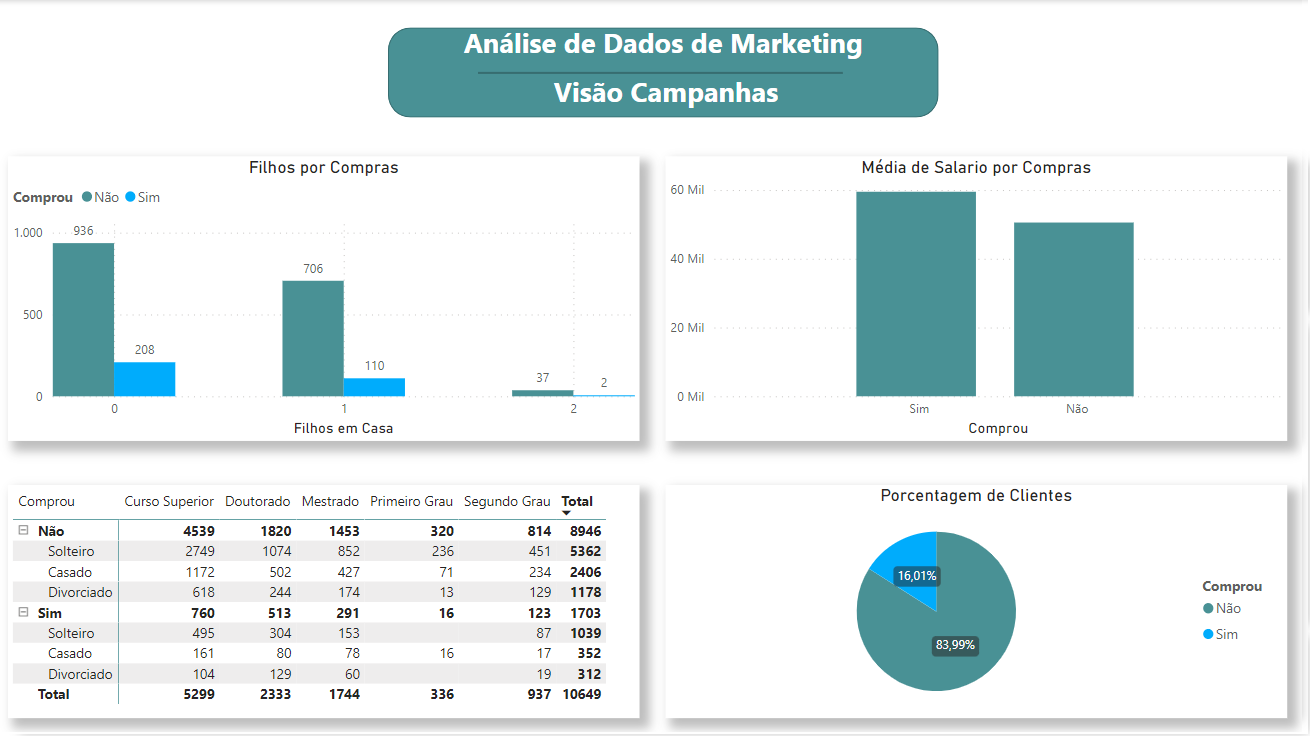

The page's visual inventory and layout, read from the dashboard file:
{"tool":"powerbi","page":{"name":"Visão Campanhas","canvas":[1280,720],"ordinal":2},"visuals":[{"type":"pieChart","title":"Porcentagem de Clientes","fields":{"Category":["DadosMarketing.Comprou"],"Y":["CountNonNull(DadosMarketing.ID)"]},"box":[652.5,474.4,608,228.2],"z":0},{"type":"clusteredColumnChart","title":"Média de Salario por Compras","fields":{"Category":["DadosMarketing.Comprou"],"Y":["Avg(DadosMarketing.Salario Anual)"]},"box":[652.5,153,608,278.3],"z":1000},{"type":"pivotTable","fields":{"Rows":["DadosMarketing.Comprou","DadosMarketing.Estado Civil"],"Values":["Sum(DadosMarketing.Numero Visitas WebSite Mes)"],"Columns":["DadosMarketing.Escolaridade"]},"box":[9.7,474.4,617.7,228.2],"z":2000},{"type":"clusteredColumnChart","title":"Filhos por Compras","fields":{"Category":["DadosMarketing.Filhos em Casa"],"Series":["DadosMarketing.Comprou"],"Y":["CountNonNull(DadosMarketing.Filhos em Casa)"]},"box":[9.7,153,617.7,278.3],"z":3000},{"type":"shape","box":[381.8,26.8,538.4,88.1],"z":4000},{"type":"shape","title":"linha","box":[469.8,26.8,356.9,88.4],"z":5000},{"type":"textbox","title":"texto marketing","box":[381.5,17.8,538.4,52.9],"z":6000},{"type":"textbox","title":"visao cliente","box":[387,70.7,531.5,43.1],"z":7000}]}

Visuals, with their boxes in screenshot pixels (x1, y1, x2, y2), scaled from the page's 1280x720 canvas onto the 1310x736 screenshot:
"Porcentagem de Clientes" pieChart: <bbox>668, 485, 1290, 718</bbox>
"Média de Salario por Compras" clusteredColumnChart: <bbox>668, 156, 1290, 441</bbox>
pivotTable - DadosMarketing.Comprou x DadosMarketing.Estado Civil: <bbox>10, 485, 642, 718</bbox>
"Filhos por Compras" clusteredColumnChart: <bbox>10, 156, 642, 441</bbox>
shape: <bbox>391, 27, 942, 117</bbox>
"linha" shape: <bbox>481, 27, 846, 118</bbox>
"texto marketing" textbox: <bbox>390, 18, 941, 72</bbox>
"visao cliente" textbox: <bbox>396, 72, 940, 116</bbox>
